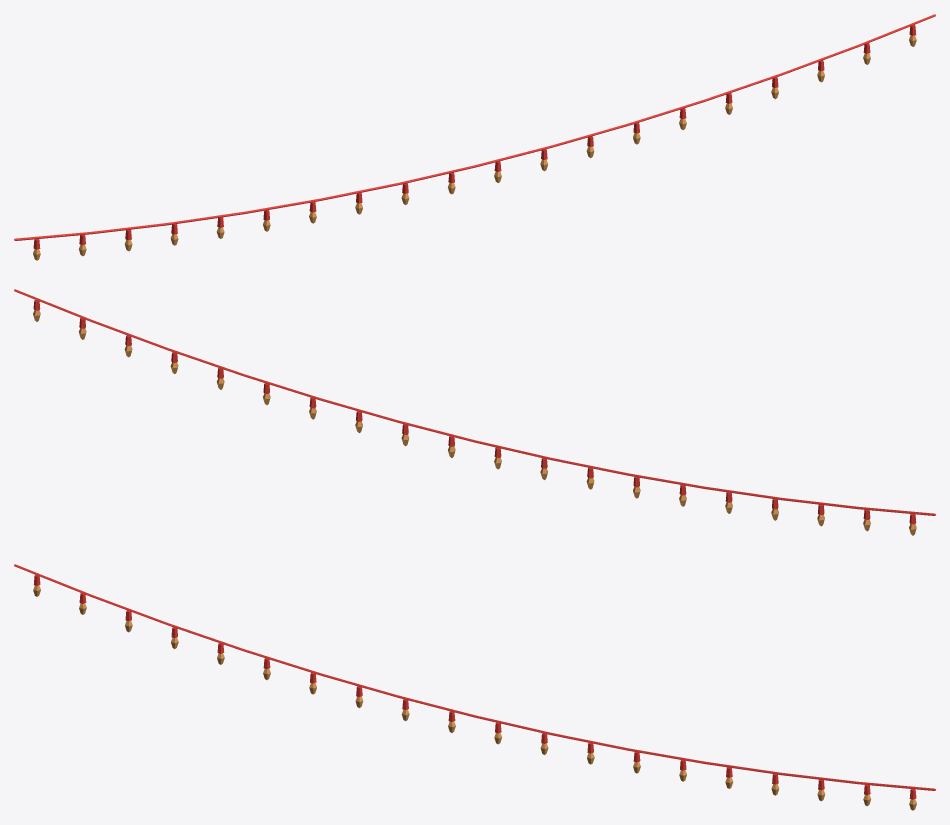
Rendered from SM_Light_String_Color_Big_5m_Christmas.fbx.
The picture shows the model from 3 angles, top to bottom: view 1: azimuth 30°, elevation 25°; view 2: azimuth 150°, elevation 25°; view 3: azimuth 330°, elevation 25°; orthographic projection.
Parts seen in each view (by area): view 1: light-string-color-big-5m-christmas; view 2: light-string-color-big-5m-christmas; view 3: light-string-color-big-5m-christmas.
Boxes of the visible parts, x1,y1,x2,y2 form: light-string-color-big-5m-christmas: (14,14,935,260); light-string-color-big-5m-christmas: (14,289,935,535); light-string-color-big-5m-christmas: (14,564,935,810).
Bounding box in the file's own units: 5 × 0.3247 × 0.0357.
